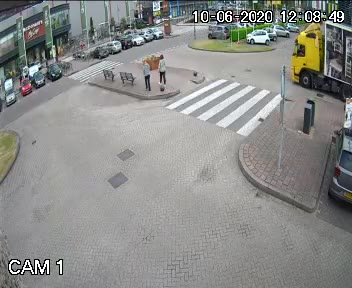car: (295, 12, 352, 109)
